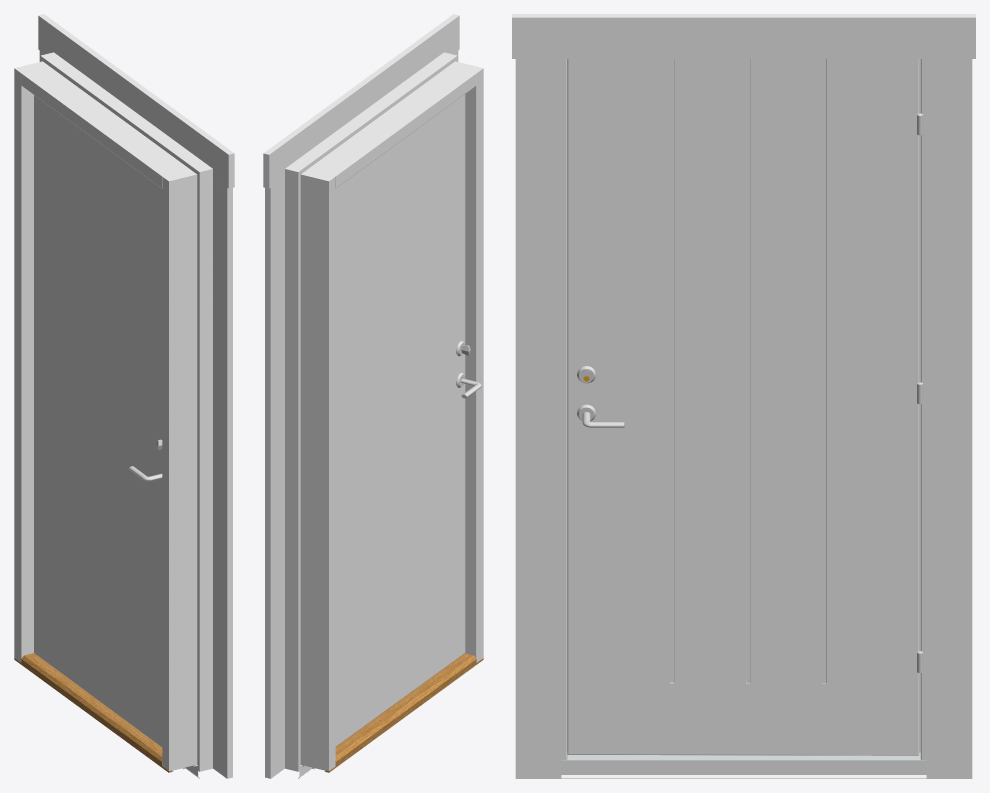
3 views of the same model, side by side, from view 1: azimuth 30°, elevation 25°; view 2: azimuth 150°, elevation 25°; view 3: azimuth 270°, elevation 25° (orthographic). The views are drawn at different scales.
Visible parts, largest first — view 1: window_material-2, window_material[2], accentcolor_cornerboard_material-4[1], window_material[1], accentcolor_cornerboard_material-2, accentcolor_cornerboard_material-3, window_material, polished oak 2d, accentcolor_cornerboard_material; view 2: window_material-2, window_material[1], accentcolor_cornerboard_material-4, window_material[2], accentcolor_cornerboard_material-2[1], accentcolor_cornerboard_material-3, window_material, polished oak 2d, accentcolor_cornerboard_material; view 3: window_material-2, accentcolor_cornerboard_material-4[1], accentcolor_cornerboard_material-4, accentcolor_cornerboard_material-3, dripplate_material, window_material[1], window_material[2], matte aluminum.
Part boxes in pixels (x1,y1,x2,y2): window_material-2: (34,95,162,747); window_material[2]: (162,171,197,770); accentcolor_cornerboard_material-4[1]: (213,177,232,778); window_material[1]: (14,61,46,662); accentcolor_cornerboard_material-2: (195,165,212,771); accentcolor_cornerboard_material-3: (38,14,234,188); window_material: (21,64,192,188); polished oak 2d: (14,653,172,772); accentcolor_cornerboard_material: (45,56,207,172); window_material-2: (335,94,465,746); window_material[1]: (300,171,335,770); accentcolor_cornerboard_material-4: (265,177,284,778); window_material[2]: (451,61,483,662); accentcolor_cornerboard_material-2[1]: (285,165,302,771); accentcolor_cornerboard_material-3: (263,14,459,188); window_material: (305,64,476,188); polished oak 2d: (325,653,483,772); accentcolor_cornerboard_material: (290,56,452,172); window_material-2: (567,59,919,755); accentcolor_cornerboard_material-4[1]: (515,59,561,778); accentcolor_cornerboard_material-4: (926,59,972,778); accentcolor_cornerboard_material-3: (512,14,975,58); dripplate_material: (561,760,926,778); window_material[1]: (919,59,926,759); window_material[2]: (561,59,567,759); matte aluminum: (561,752,926,760).
Size of the model in its own units: 0.2283 by 2.24 by 1.22.
Materials: 22 (11 with a texture image).
